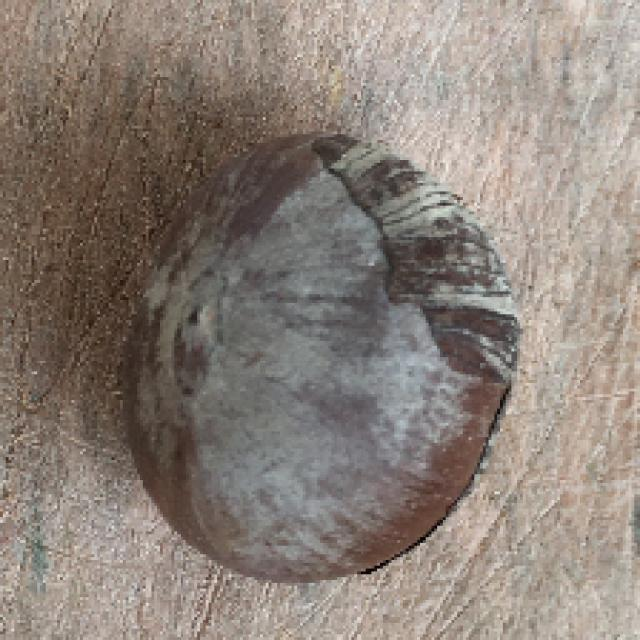damagedHazelnut: (119, 133, 526, 583)
